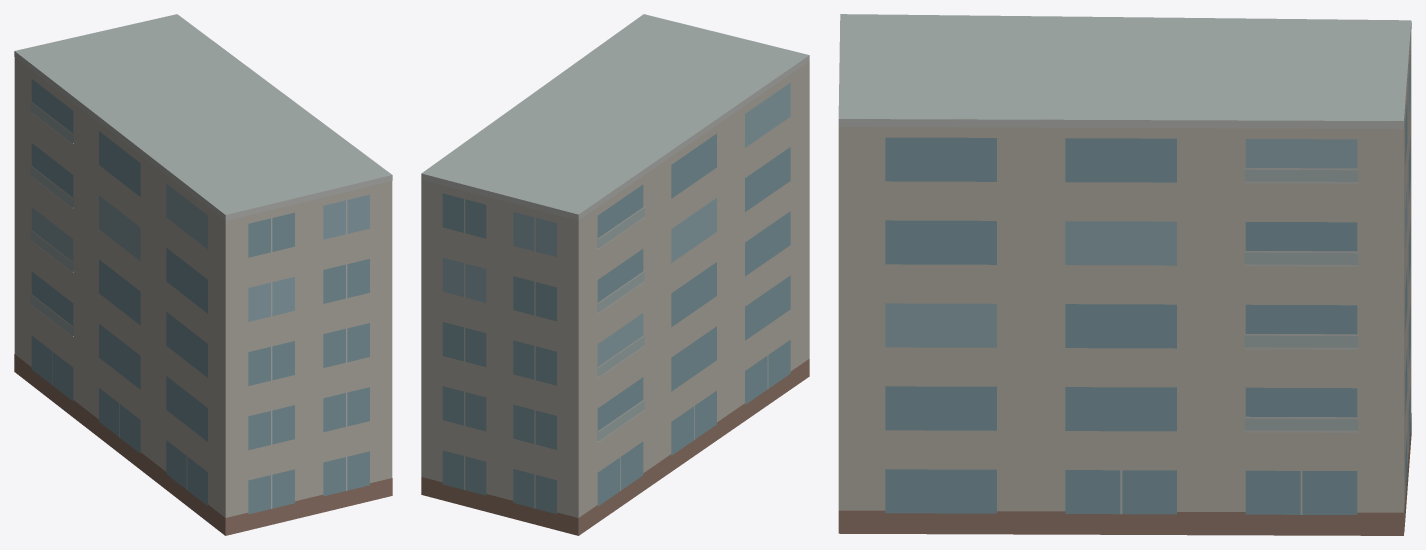
File: survey-upis-32764118.glb
The picture shows the model from 3 angles, left to right: view 1: azimuth 30°, elevation 25°; view 2: azimuth 150°, elevation 25°; view 3: azimuth 270°, elevation 25°; orthographic projection. The views are drawn at different scales.
Parts seen in each view (by area): view 1: survey-upis-32764118.tmp; view 2: survey-upis-32764118.tmp; view 3: survey-upis-32764118.tmp.
Part boxes in pixels (x1,y1,x2,y2): survey-upis-32764118.tmp: (14, 14, 392, 535); survey-upis-32764118.tmp: (421, 14, 809, 535); survey-upis-32764118.tmp: (838, 14, 1411, 535).
Bounding box in the file's own units: 7.23 × 13 × 16.28.
